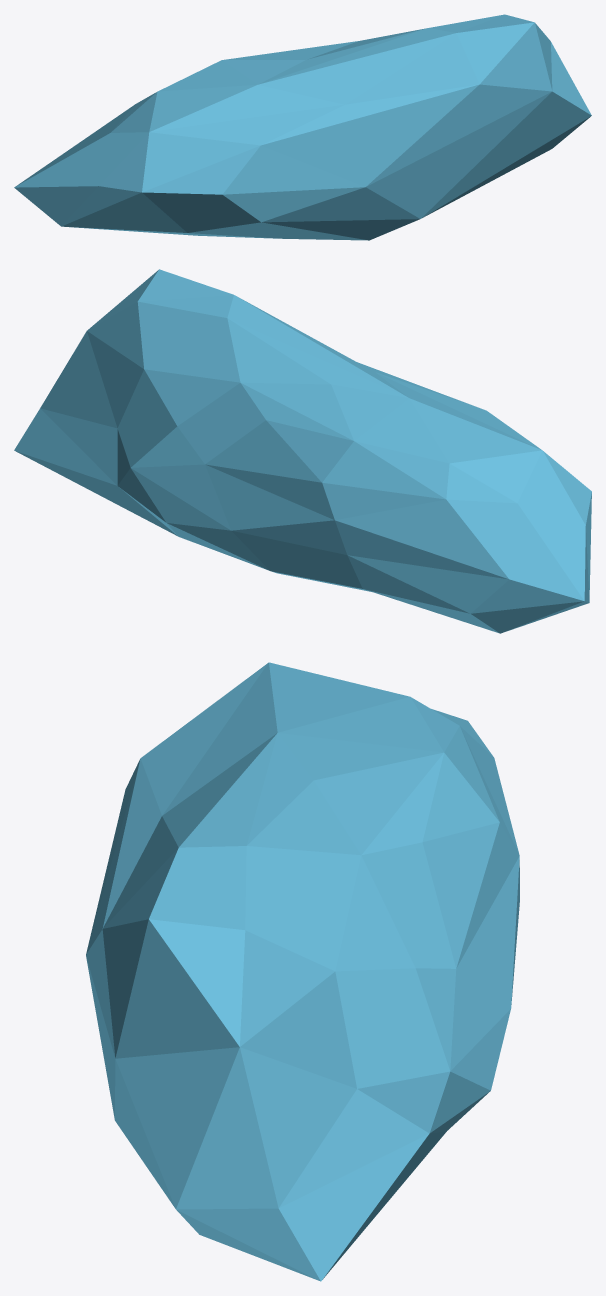
The model's file is Cloud_v03.fbx.
3 renders of one model, top to bottom at view 1: azimuth 30°, elevation 25°; view 2: azimuth 150°, elevation 25°; view 3: azimuth 270°, elevation 25°, orthographic. The views are drawn at different scales.
Parts seen in each view (by area): view 1: Cloud_v03; view 2: Cloud_v03; view 3: Cloud_v03.
Part boxes in pixels (bbox=[...]): Cloud_v03: bbox=[14, 14, 591, 240]; Cloud_v03: bbox=[14, 269, 591, 633]; Cloud_v03: bbox=[86, 662, 519, 1281].
Size of the model in its own units: 49.87 by 16.85 by 17.99.
1 material, 1 textured.
